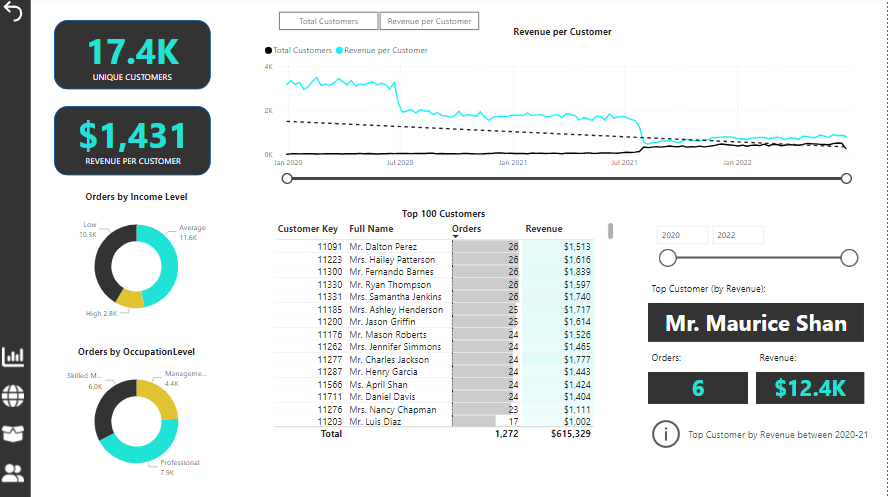

This screenshot's page, from the dashboard's own definition file:
{"tool":"powerbi","page":{"name":"Customer Details","canvas":[1280,720],"ordinal":3},"visuals":[{"type":"shape","box":[0,0,45.7,720],"z":0},{"type":"shape","box":[78.6,32.9,225.7,100],"z":1000},{"type":"actionButton","box":[0,498.2,46.1,40.3],"z":1000,"group":"g1"},{"type":"shape","box":[79.5,157.1,225.7,100],"z":2000},{"type":"actionButton","box":[0,553.9,46.1,40.3],"z":2000,"group":"g1"},{"type":"card","fields":{"Values":["Measure Table.Total Customers"]},"box":[70,0,242.9,165.7],"z":3000},{"type":"actionButton","box":[0,609.6,46.1,40.3],"z":3000,"group":"g1"},{"type":"card","fields":{"Values":["Measure Table.Average Revenue per Customer"]},"box":[71.4,121.4,242.9,165.7],"z":4000},{"type":"actionButton","box":[0,665.2,46.1,40.3],"z":4000,"group":"g1"},{"type":"lineChart","fields":{"Y":["Measure Table.Total Customers","Measure Table.Average Revenue per Customer"],"Category":["Calendar Lookup.Date Hierarchy.Start of Year","Calendar Lookup.Date Hierarchy.Start of Month","Calendar Lookup.Date Hierarchy.Start of Week","Calendar Lookup.Date Hierarchy.Date"]},"box":[377.3,40.3,868.3,231.8],"z":5000},{"type":"donutChart","title":"Orders by Income Level","fields":{"Y":["Measure Table.Total Orders"],"Series":["Customer Lookup.Income Level"]},"box":[91.4,278.6,214.3,202.9],"z":6000},{"type":"donutChart","title":"Orders by OccupationLevel","fields":{"Y":["Measure Table.Total Orders"],"Series":["Customer Lookup.Occupation"]},"box":[90.7,501.1,214.6,203],"z":7000},{"type":"tableEx","title":"Top 100 Customers","fields":{"Values":["Customer Lookup.CustomerKey","Customer Lookup.Full Name","Measure Table.Total Orders","Measure Table.Total Revenue"]},"box":[390,302.9,500,338.6],"z":8000},{"type":"card","fields":{"Values":["Measure Table.Full Name (Customer Detail)"]},"box":[934.3,440.8,311.4,55.7],"z":9000},{"type":"card","fields":{"Values":["Measure Table.Total Orders  (Customer Details)"]},"box":[934.3,539.4,144.3,45.7],"z":10000},{"type":"card","fields":{"Values":["Measure Table.Total Revenue (Customer Detail)"]},"box":[1090,539.4,155.7,45.7],"z":11000},{"type":"textbox","box":[934.3,406.5,187.1,34.3],"z":12000},{"type":"textbox","box":[934.3,505.1,72.9,34.3],"z":13000},{"type":"textbox","box":[1090,505.1,72.9,34.3],"z":14000},{"type":"slicer","fields":{"Values":["Calendar Lookup.Year"]},"box":[934.6,319.7,311,80.6],"z":15000},{"type":"actionButton","box":[0,0,99.4,40.3],"z":16000},{"type":"actionButton","box":[934.6,603.4,328.3,51.8],"z":17000},{"type":"group","id":"g1","title":"Navigation Buttons","box":[0,498.2,46.1,207.4],"z":18000},{"type":"slicer","fields":{"Values":["Customer Metric Selection.Customer Metric Selection"]},"box":[377.3,14.4,338.4,37.4],"z":19000}]}

Visuals, with their boxes on the page's 1280x720 design canvas (x1, y1, x2, y2). These are canvas units, not pixel positions in the 888x497 screenshot, which may show the page scaled, cropped or inside an application window:
shape: locate(0, 0, 46, 720)
shape: locate(79, 33, 304, 133)
actionButton: locate(0, 498, 46, 538)
shape: locate(80, 157, 305, 257)
actionButton: locate(0, 554, 46, 594)
card - Measure Table.Total Customers: locate(70, 0, 313, 166)
actionButton: locate(0, 610, 46, 650)
card - Measure Table.Average Revenue per Customer: locate(71, 121, 314, 287)
actionButton: locate(0, 665, 46, 706)
lineChart - Measure Table.Total Customers x Measure Table.Average Revenue per Customer: locate(377, 40, 1246, 272)
"Orders by Income Level" donutChart: locate(91, 279, 306, 482)
"Orders by OccupationLevel" donutChart: locate(91, 501, 305, 704)
"Top 100 Customers" tableEx: locate(390, 303, 890, 642)
card - Measure Table.Full Name (Customer Detail): locate(934, 441, 1246, 496)
card - Measure Table.Total Orders  (Customer Details): locate(934, 539, 1079, 585)
card - Measure Table.Total Revenue (Customer Detail): locate(1090, 539, 1246, 585)
textbox: locate(934, 406, 1121, 441)
textbox: locate(934, 505, 1007, 539)
textbox: locate(1090, 505, 1163, 539)
slicer - Calendar Lookup.Year: locate(935, 320, 1246, 400)
actionButton: locate(0, 0, 99, 40)
actionButton: locate(935, 603, 1263, 655)
"Navigation Buttons" group: locate(0, 498, 46, 706)
slicer - Customer Metric Selection.Customer Metric Selection: locate(377, 14, 716, 52)
